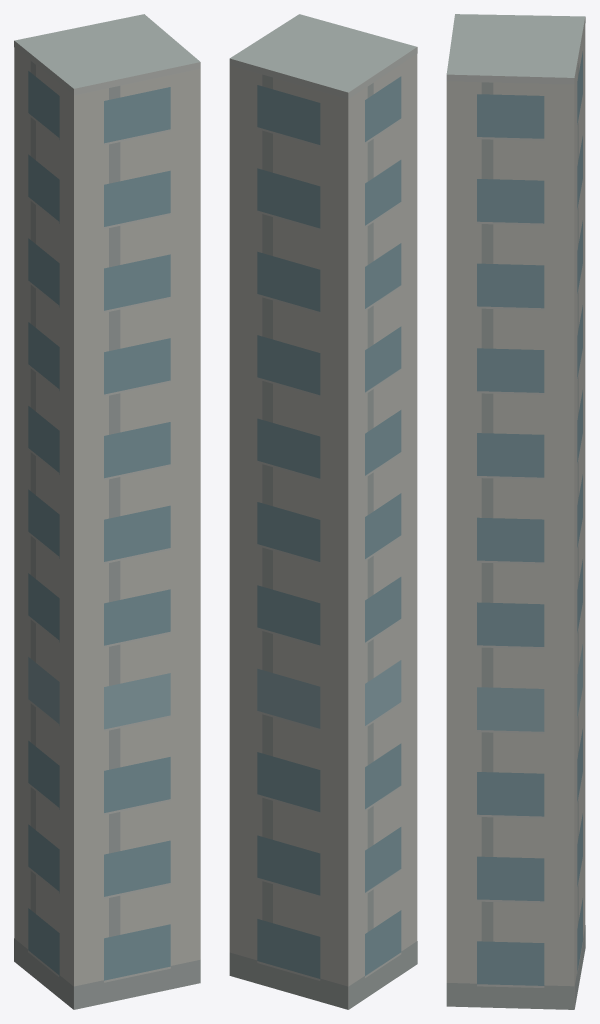
The model's file is survey-upis-32651326.glb.
The picture shows the model from 3 angles, left to right: view 1: azimuth 30°, elevation 25°; view 2: azimuth 150°, elevation 25°; view 3: azimuth 270°, elevation 25°; orthographic projection.
Visible parts, largest first — view 1: survey-upis-32651326.tmp; view 2: survey-upis-32651326.tmp; view 3: survey-upis-32651326.tmp.
Part boxes in pixels (<box>): survey-upis-32651326.tmp: <box>14,14,200,1009</box>; survey-upis-32651326.tmp: <box>229,14,417,1009</box>; survey-upis-32651326.tmp: <box>446,14,585,1009</box>.
Size of the model in its own units: 4.95 by 33.55 by 4.54.
